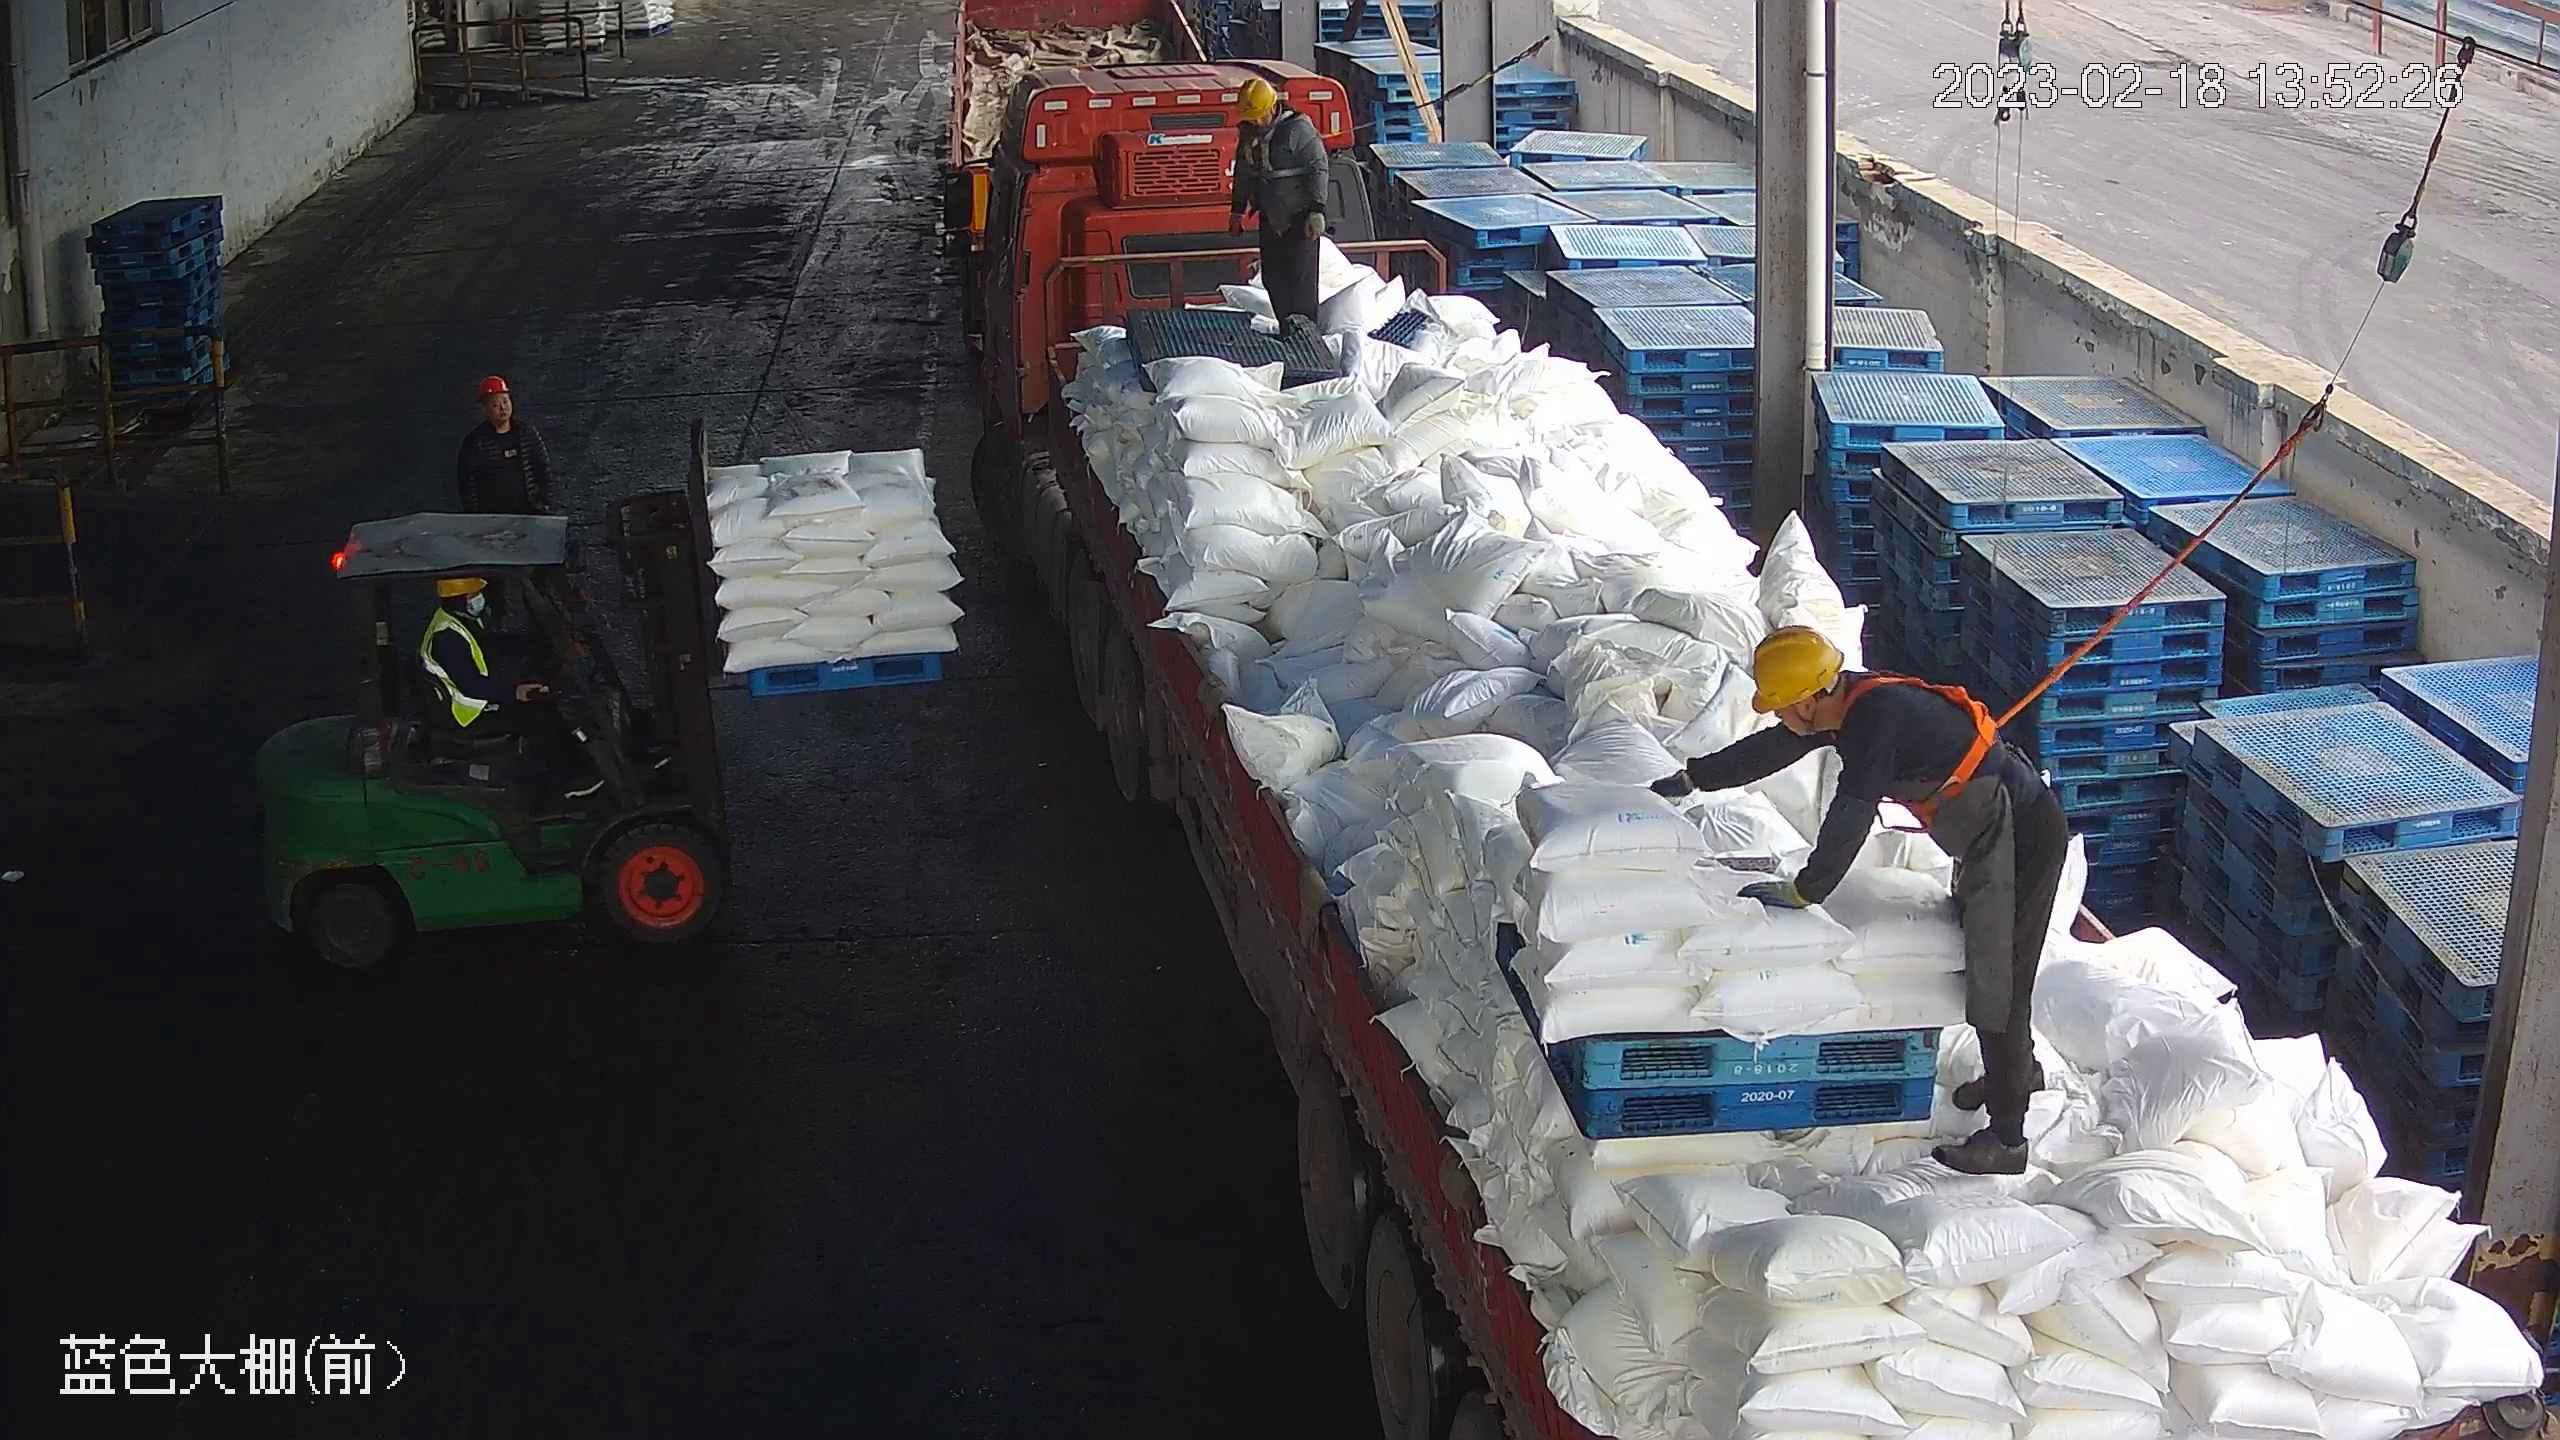belt: (1847, 661, 2017, 819), (1233, 111, 1320, 189)
head: (1740, 623, 1957, 820), (422, 579, 532, 694), (451, 371, 547, 481), (1229, 78, 1318, 178)
helmet: (1751, 623, 1845, 717), (1237, 75, 1277, 122), (431, 577, 488, 598), (475, 377, 509, 401)
people: (1639, 618, 2071, 1182), (422, 576, 625, 801), (1223, 74, 1332, 325)
truck: (935, 57, 2535, 1440)
